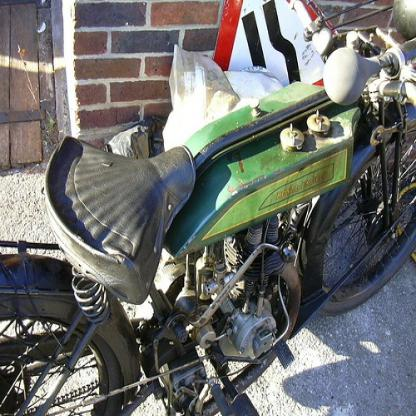motorbike: (3, 40, 415, 413)
